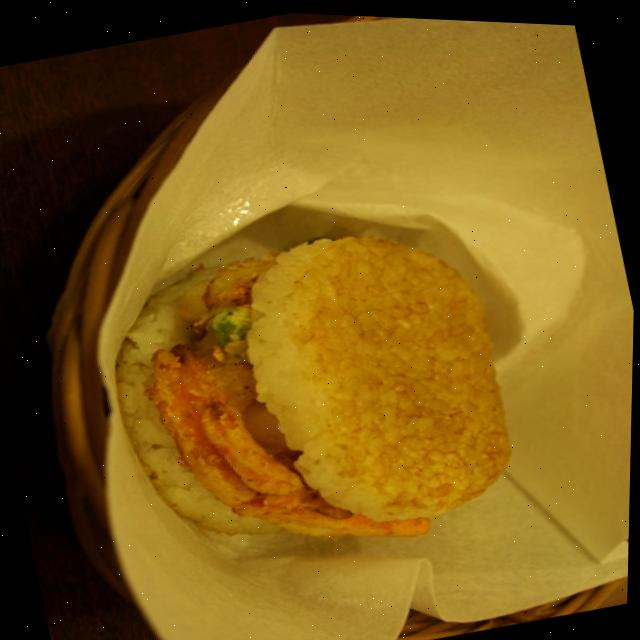炸货点心: (37, 135, 585, 635)
熟制海鲜: (37, 135, 585, 635)
